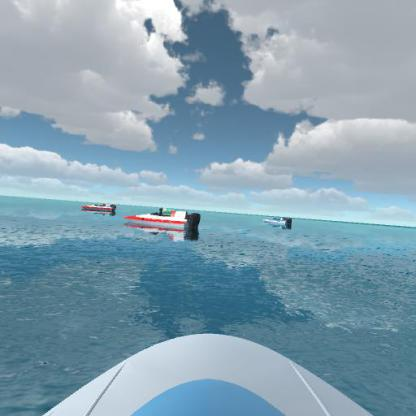usv0: (157, 201, 183, 217)
usv1: (262, 212, 294, 232)
usv3: (123, 205, 203, 242), (78, 196, 119, 216)
